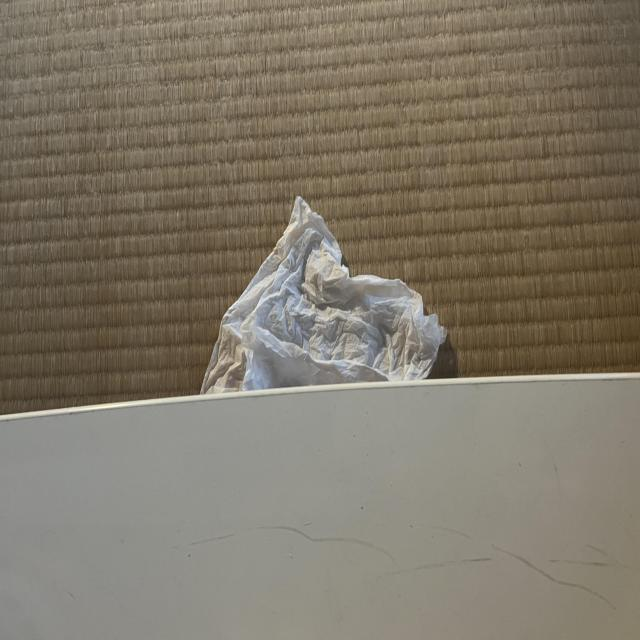Paper: (202, 190, 466, 412)
